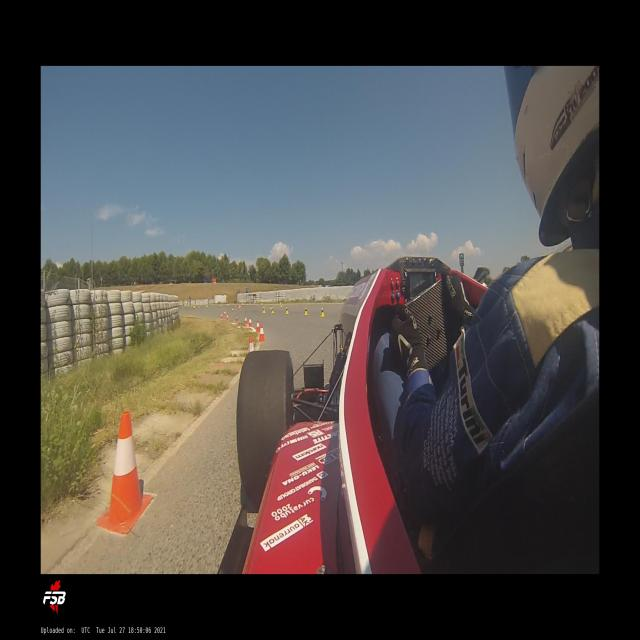orange_cone: (96, 410, 152, 534), (248, 337, 255, 353), (259, 325, 265, 342), (256, 320, 260, 332), (249, 318, 252, 327), (244, 316, 247, 324), (235, 315, 238, 320)
yellow_cone: (320, 307, 325, 317), (304, 306, 308, 315), (262, 306, 266, 314), (285, 307, 289, 314), (271, 307, 274, 313), (270, 305, 272, 309), (281, 302, 282, 306)
